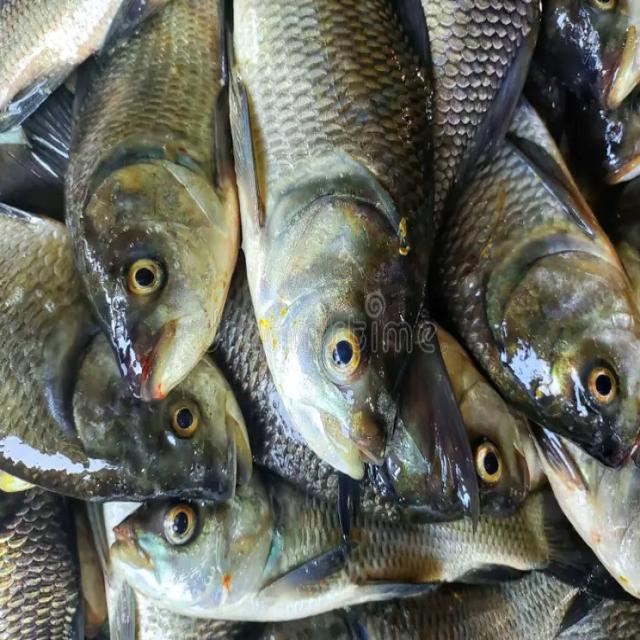Catla: (231, 0, 435, 482), (436, 90, 640, 470), (64, 0, 241, 402)
